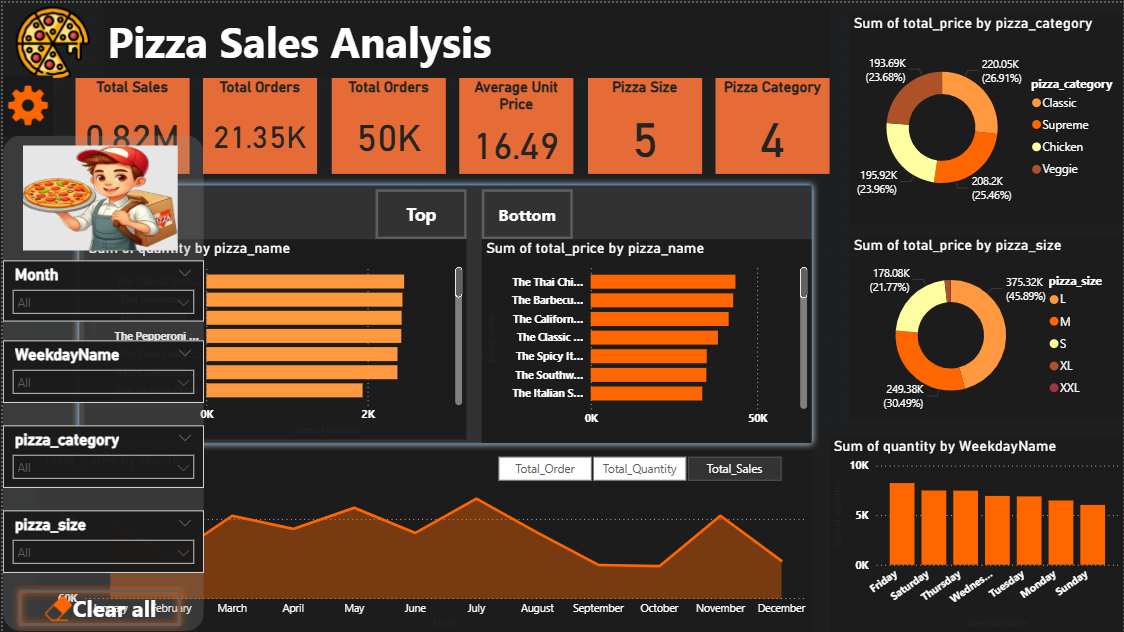

Layout of this report page (visuals, bound fields, positions):
{"tool":"powerbi","page":{"name":"Page 1","canvas":[1280,720],"ordinal":0},"visuals":[{"type":"card","title":"Pizza Category","fields":{"Values":["Count(pizza_sales.pizza_category)"]},"box":[814.8,86.2,130.5,109.5],"z":0},{"type":"shape","box":[78.6,200,854.3,311.4],"z":0,"group":"g1"},{"type":"lineChart","fields":{"Y":["pizza_sales.Total_Quantity"],"Category":["pizza_sales.order_date.Variation.Date Hierarchy.Month"]},"box":[40,511.4,885.7,208.6],"z":0,"group":"g2"},{"type":"card","title":"Pizza Size","fields":{"Values":["Count(pizza_sales.pizza_size)"]},"box":[668.4,86.2,130,109.5],"z":1000},{"type":"clusteredBarChart","fields":{"Category":["pizza_sales.pizza_name"],"Y":["Sum(pizza_sales.quantity)"]},"box":[93.5,270,437.1,228.6],"z":1000,"group":"g1"},{"type":"slicer","fields":{"Values":["Parameter.Parameter"]},"box":[540.1,511.4,373.3,41.1],"z":1000,"group":"g2"},{"type":"card","title":"Average Unit Price","fields":{"Values":["Avg(pizza_sales.unit_price)"]},"box":[521.6,86.2,130.5,109.5],"z":2000},{"type":"clusteredBarChart","fields":{"Category":["pizza_sales.pizza_name"],"Y":["Sum(pizza_sales.total_price)"]},"box":[547.8,270,377.1,232.9],"z":2000,"group":"g1"},{"type":"actionButton","title":"bottom","box":[547.2,212.9,104.3,57.1],"z":2500,"group":"g1"},{"type":"card","title":"Total Sales","fields":{"Values":["pizza_sales.Sum_Sales"]},"box":[82.5,86.2,130,109.5],"z":3000},{"type":"actionButton","title":"top","box":[425.7,212.9,104.3,57.1],"z":3000,"group":"g1"},{"type":"card","title":"Total Orders","fields":{"Values":["Count(pizza_sales.order_id)"]},"box":[228.8,86.2,130,109.5],"z":4000},{"type":"card","title":"Total Orders","fields":{"Values":["Sum(pizza_sales.quantity)"]},"box":[375.2,86.2,130,109.5],"z":5000},{"type":"donutChart","fields":{"Category":["pizza_sales.pizza_category"],"Y":["Sum(pizza_sales.total_price)"]},"box":[967.4,12.3,312.6,240],"z":6000},{"type":"donutChart","fields":{"Y":["Sum(pizza_sales.total_price)"],"Category":["pizza_sales.pizza_size"]},"box":[967.4,265.8,312.6,209.2],"z":7000},{"type":"columnChart","fields":{"Category":["pizza_sales.WeekdayName"],"Y":["Sum(pizza_sales.quantity)"]},"box":[944.3,495.7,335.7,224.3],"z":8000},{"type":"textbox","box":[114.3,0,830,85.7],"z":9000},{"type":"actionButton","box":[0,0,114.3,85.7],"z":10000},{"type":"group","id":"g1","title":"Group 2","box":[78.6,200,854.3,311.4],"z":11000},{"type":"group","id":"g2","title":"Group 3","box":[40,511.4,885.7,208.6],"z":12000},{"type":"actionButton","title":"Show","box":[0,84.3,57.1,67.1],"z":13000}]}

Visuals, with their boxes in screenshot pixels (x1, y1, x2, y2), scaled from the page's 1280x720 canvas onto the 1124x632 screenshot:
"Pizza Category" card: detection(715, 76, 830, 172)
shape: detection(69, 176, 819, 449)
lineChart - pizza_sales.Total_Quantity x pizza_sales.order_date.Variation.Date Hierarchy.Month: detection(35, 449, 813, 631)
"Pizza Size" card: detection(587, 76, 701, 172)
clusteredBarChart - pizza_sales.pizza_name x Sum(pizza_sales.quantity): detection(82, 237, 466, 438)
slicer - Parameter.Parameter: detection(474, 449, 802, 485)
"Average Unit Price" card: detection(458, 76, 573, 172)
clusteredBarChart - pizza_sales.pizza_name x Sum(pizza_sales.total_price): detection(481, 237, 812, 441)
"bottom" actionButton: detection(481, 187, 572, 237)
"Total Sales" card: detection(72, 76, 187, 172)
"top" actionButton: detection(374, 187, 465, 237)
"Total Orders" card: detection(201, 76, 315, 172)
"Total Orders" card: detection(329, 76, 444, 172)
donutChart - pizza_sales.pizza_category x Sum(pizza_sales.total_price): detection(849, 11, 1123, 221)
donutChart - Sum(pizza_sales.total_price) x pizza_sales.pizza_size: detection(849, 233, 1123, 417)
columnChart - pizza_sales.WeekdayName x Sum(pizza_sales.quantity): detection(829, 435, 1123, 631)
textbox: detection(100, 0, 829, 75)
actionButton: detection(0, 0, 100, 75)
"Group 2" group: detection(69, 176, 819, 449)
"Group 3" group: detection(35, 449, 813, 631)
"Show" actionButton: detection(0, 74, 50, 133)
